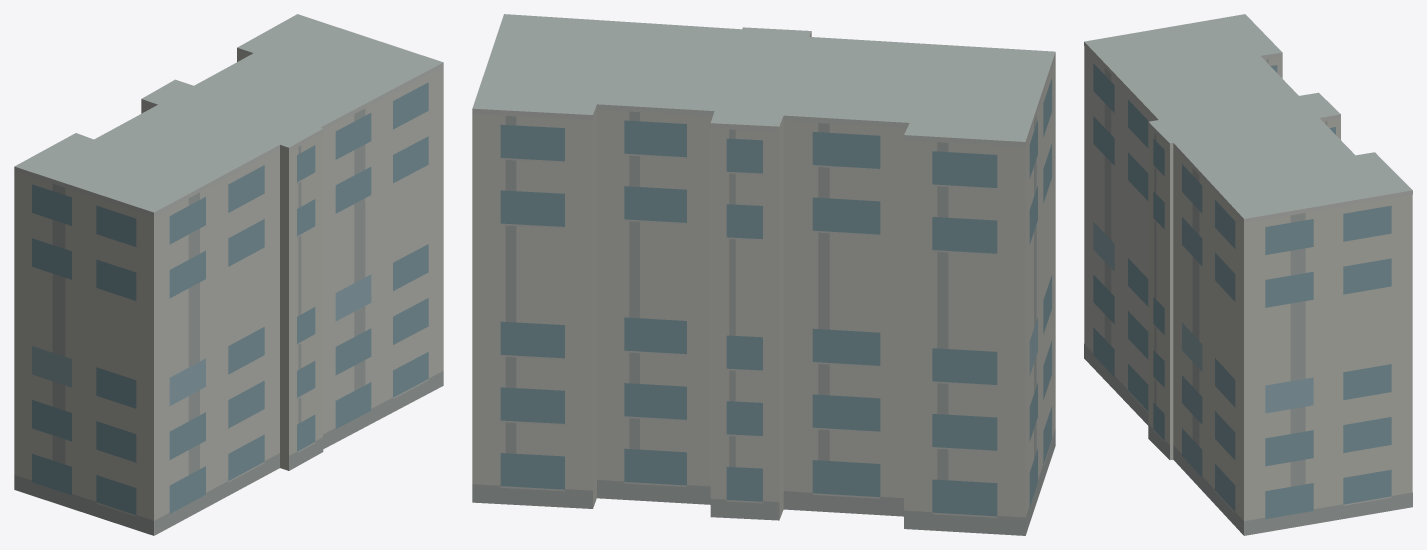
File: survey-upis-32592870.glb
The picture shows the model from 3 angles, left to right: view 1: azimuth 30°, elevation 25°; view 2: azimuth 150°, elevation 25°; view 3: azimuth 270°, elevation 25°; orthographic projection. The views are drawn at different scales.
Parts seen in each view (by area): view 1: survey-upis-32592870.tmp; view 2: survey-upis-32592870.tmp; view 3: survey-upis-32592870.tmp.
Part boxes in pixels (x1,y1,x2,y2): survey-upis-32592870.tmp: (14, 14, 443, 535); survey-upis-32592870.tmp: (472, 14, 1055, 535); survey-upis-32592870.tmp: (1084, 14, 1412, 535).
Bounding box in the file's own units: 24.85 × 17.9 × 16.84.
